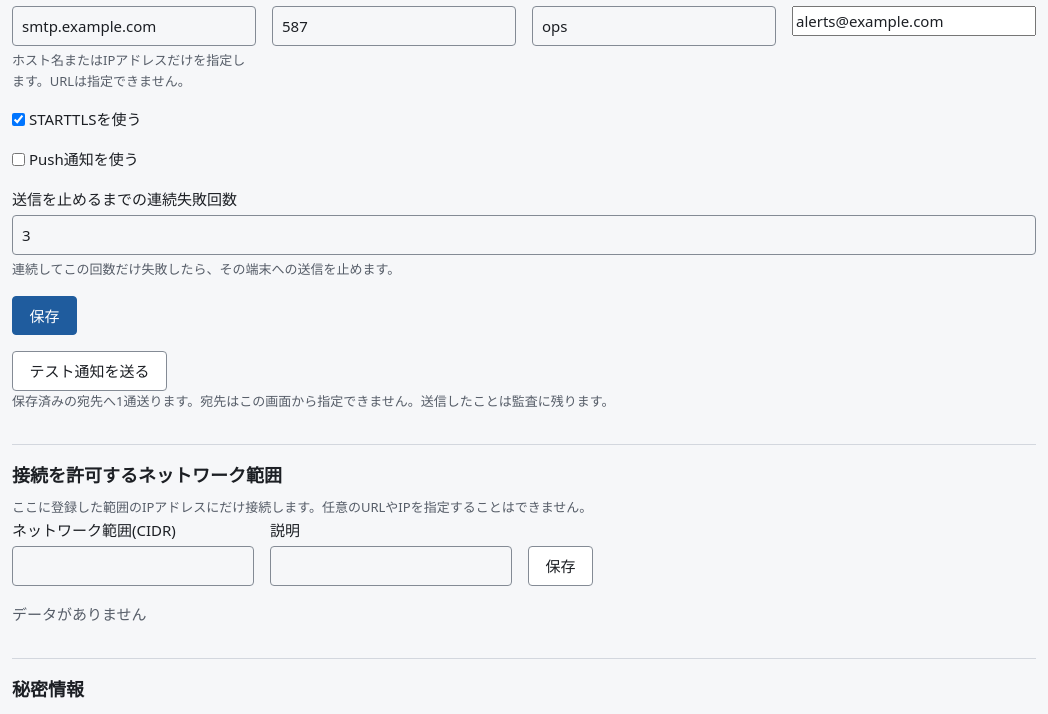
Test case: SettingsView の通知設定 › 未設定のチャネルは失敗と区別して出す
(page scrolled)
Click the button with test id "test-notification".
click(90, 371)  # box [12,351,167,391]
(page scrolled)
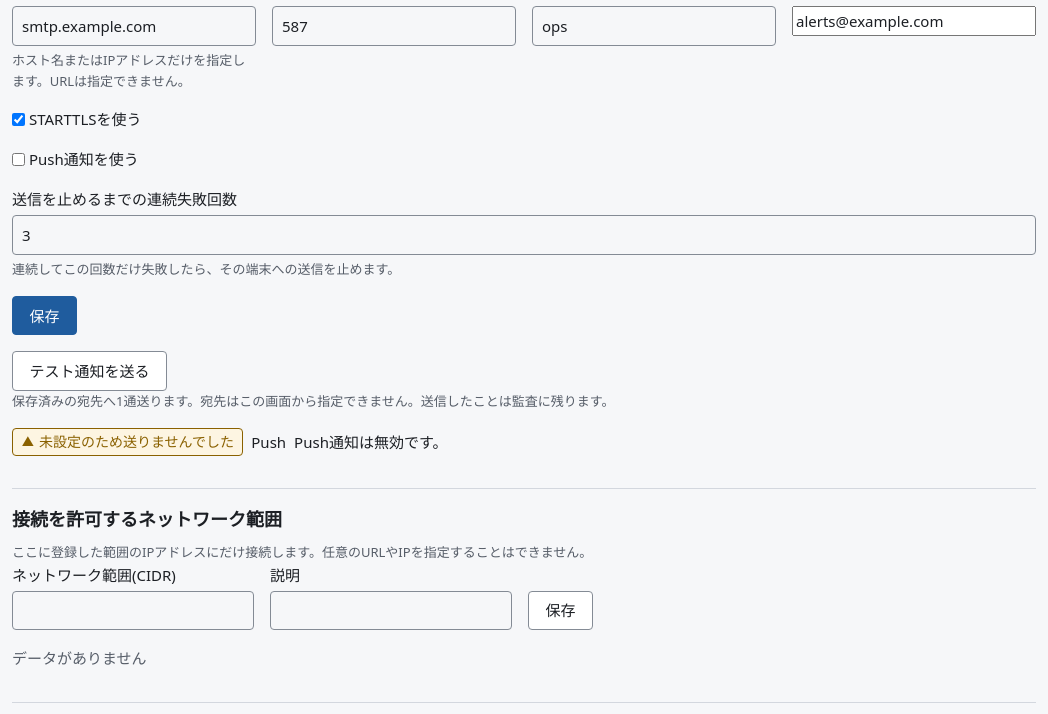
expect the list with test id "notification-test-results" shows "未設定のため送りませんでした": met, box [39,432,234,451]
